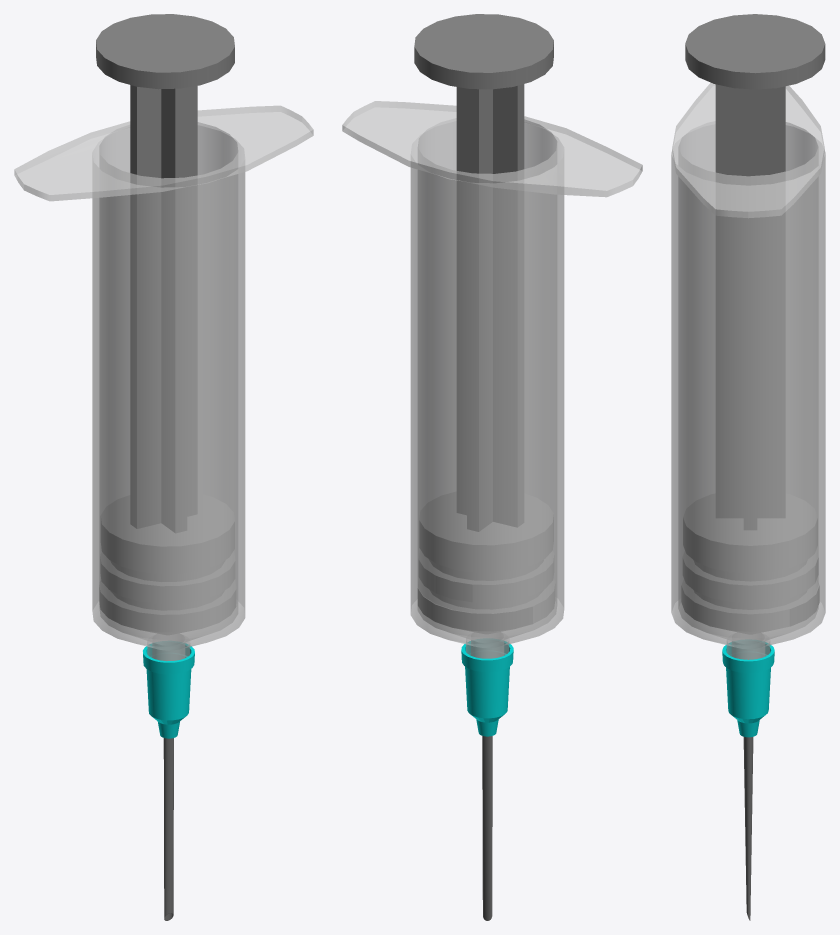
File: Syringe.fbx
3 views of the same model, side by side, from view 1: azimuth 30°, elevation 25°; view 2: azimuth 150°, elevation 25°; view 3: azimuth 270°, elevation 25° (orthographic).
Parts seen in each view (by area): view 1: pCylinder1, pCylinder6, pCylinder2, pCylinder7, pCylinder8; view 2: pCylinder1, pCylinder6, pCylinder2, pCylinder7, pCylinder8; view 3: pCylinder1, pCylinder6, pCylinder2, pCylinder7, pCylinder8.
Boxes of the visible parts, x1,y1,x2,y2 form: pCylinder1: (14,105,313,661); pCylinder6: (96,14,234,532); pCylinder2: (99,493,235,634); pCylinder7: (143,643,194,738); pCylinder8: (163,738,173,920); pCylinder1: (342,101,642,658); pCylinder6: (414,14,553,531); pCylinder2: (417,492,554,633); pCylinder7: (461,641,513,736); pCylinder8: (482,736,492,920); pCylinder1: (671,82,825,659); pCylinder6: (685,14,825,529); pCylinder2: (681,494,819,634); pCylinder7: (722,642,774,737); pCylinder8: (743,737,753,920).
Bounding box in the file's own units: 4.59 × 13.82 × 2.21.
